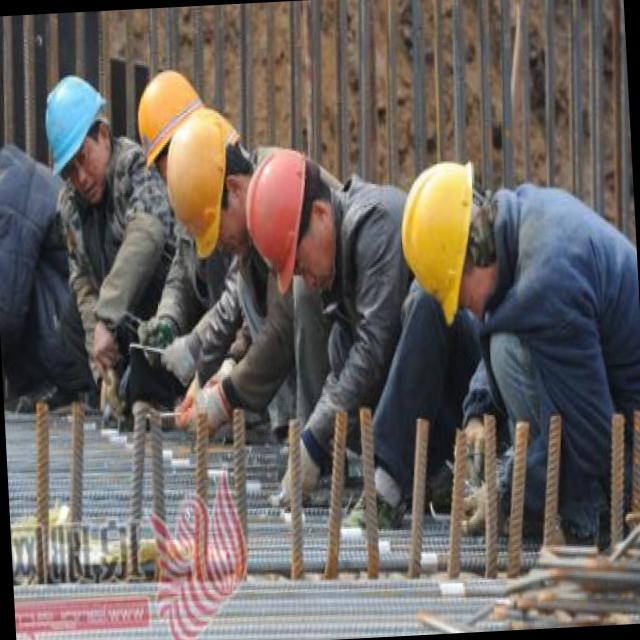helmet: (394, 155, 494, 314), (235, 144, 338, 286), (164, 103, 258, 257), (134, 62, 210, 219), (35, 66, 118, 204)
